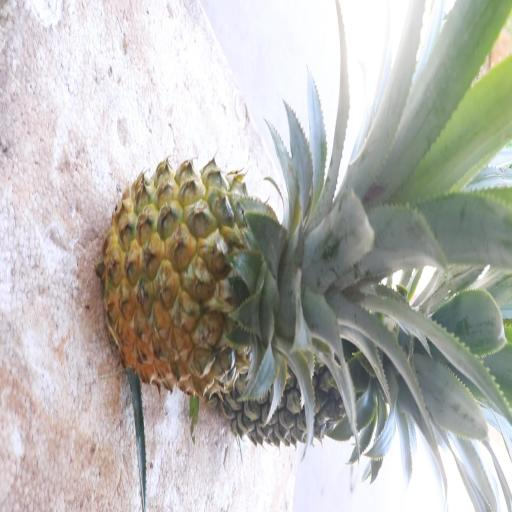Pineapple - v8 v1: (98, 151, 338, 402)
